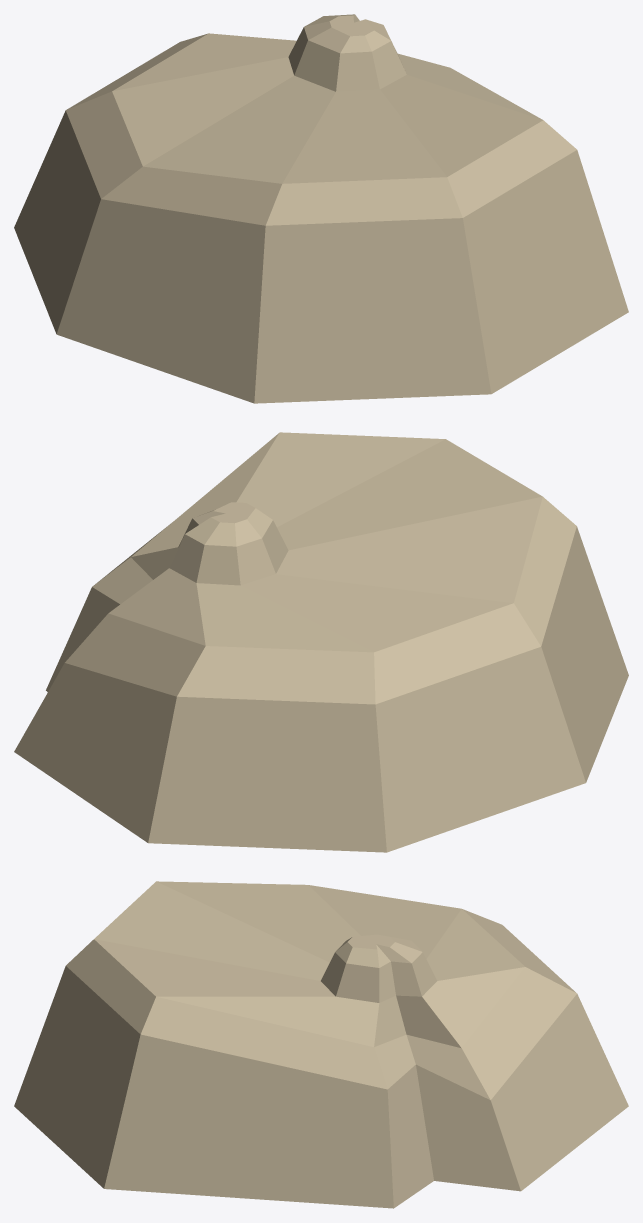
Rendered from Rock1b.fbx.
3 renders of one model, top to bottom at view 1: azimuth 30°, elevation 25°; view 2: azimuth 150°, elevation 25°; view 3: azimuth 270°, elevation 25°, orthographic. The views are drawn at different scales.
Visible parts, largest first — view 1: Circle; view 2: Circle; view 3: Circle.
Part boxes in pixels (x1,y1,x2,y2): Circle: [14, 14, 628, 403]; Circle: [14, 432, 628, 852]; Circle: [14, 881, 628, 1208].
Size of the model in its own units: 169 by 68.12 by 200.
